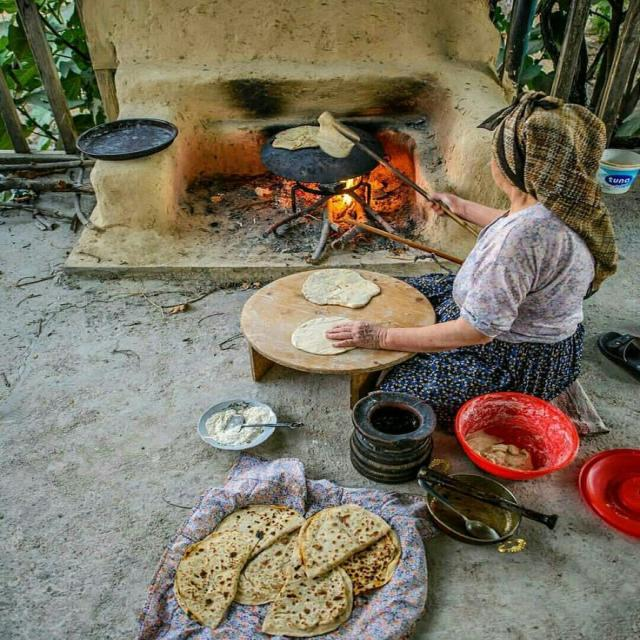fire: (361, 132, 415, 222), (327, 194, 367, 230)
